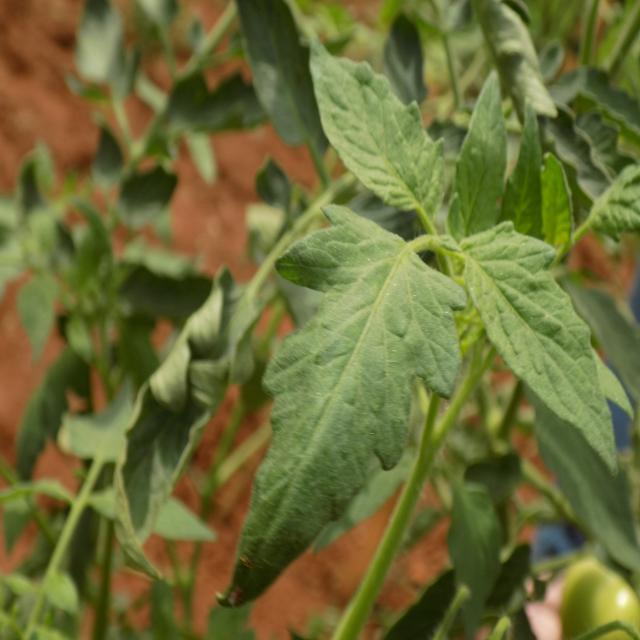tomato_healthy: (219, 189, 467, 611), (460, 222, 630, 476), (297, 18, 456, 216)
